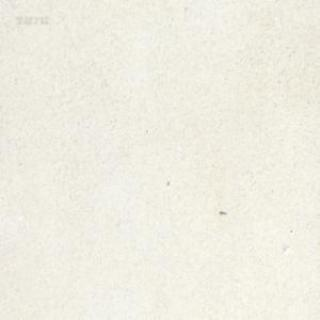Nailtrack_idkeyframe: (218, 207, 226, 212)
